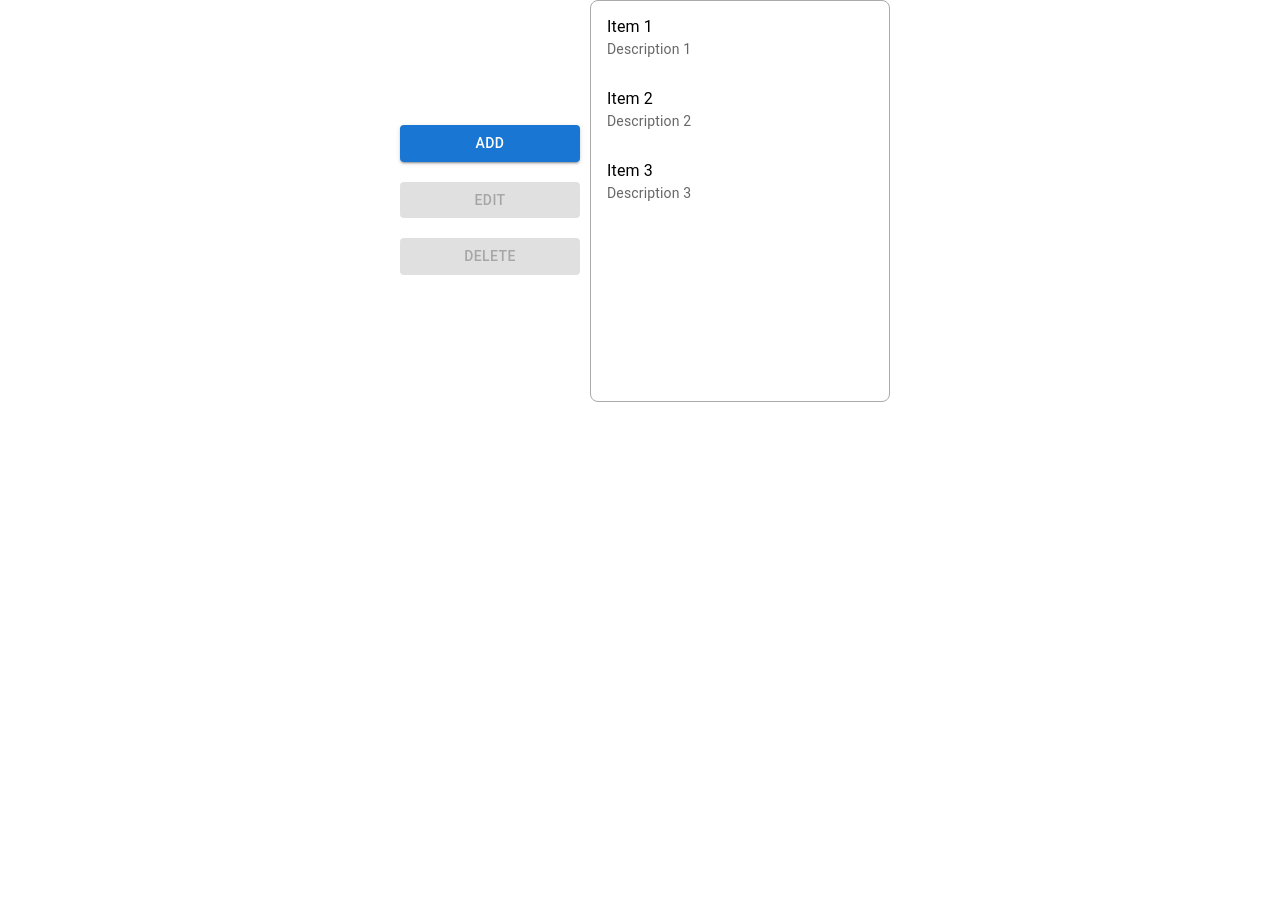
ToDoList › should open add dialog and add new item
This screenshot has width=1280, height=900.
Click the button "Add": point(490, 144) 400,125 -> 580,162
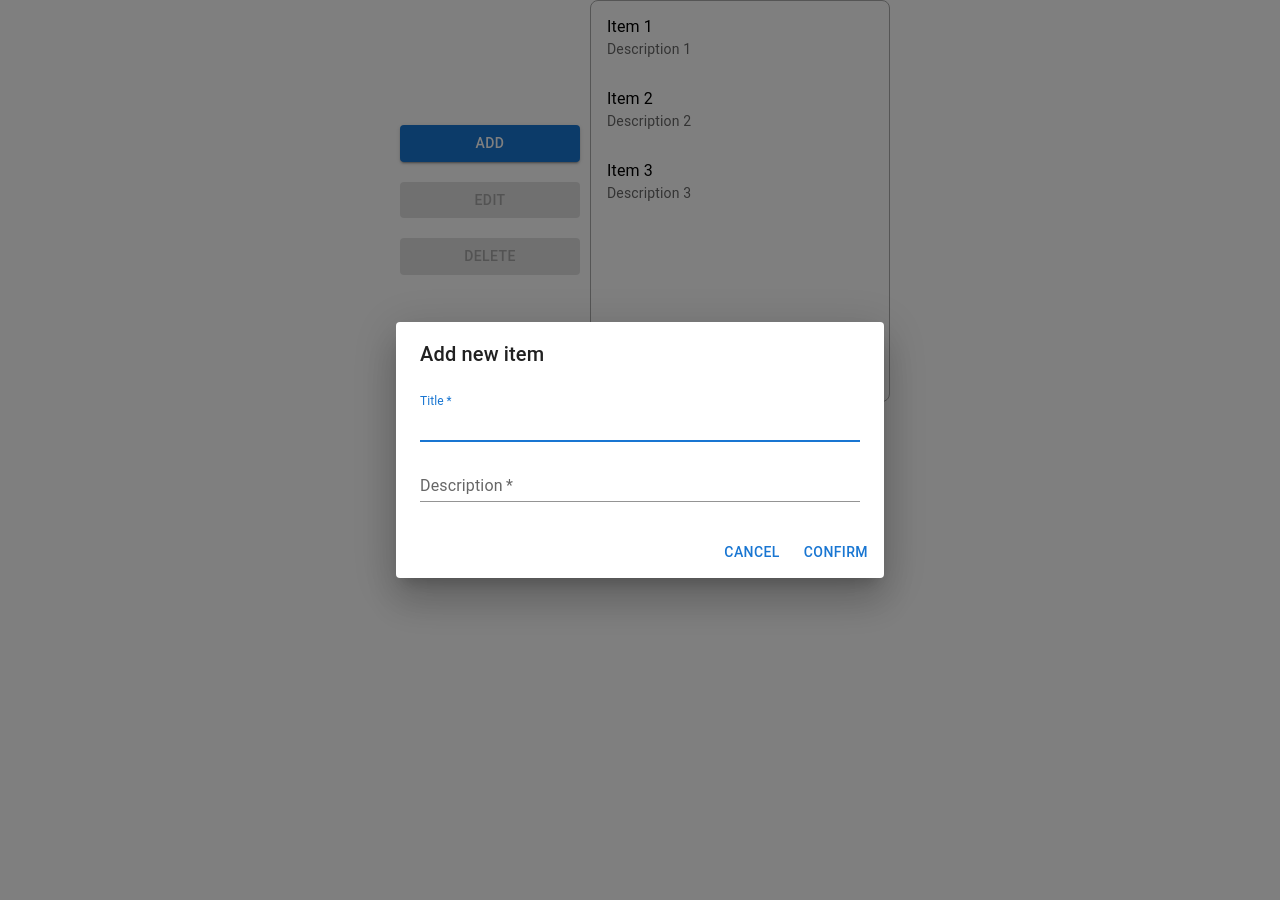
Expected: the dialog is shown, 396,322 -> 884,578
In the field labelled "Title *": point(640, 426) 420,410 -> 860,442, type "New Item"
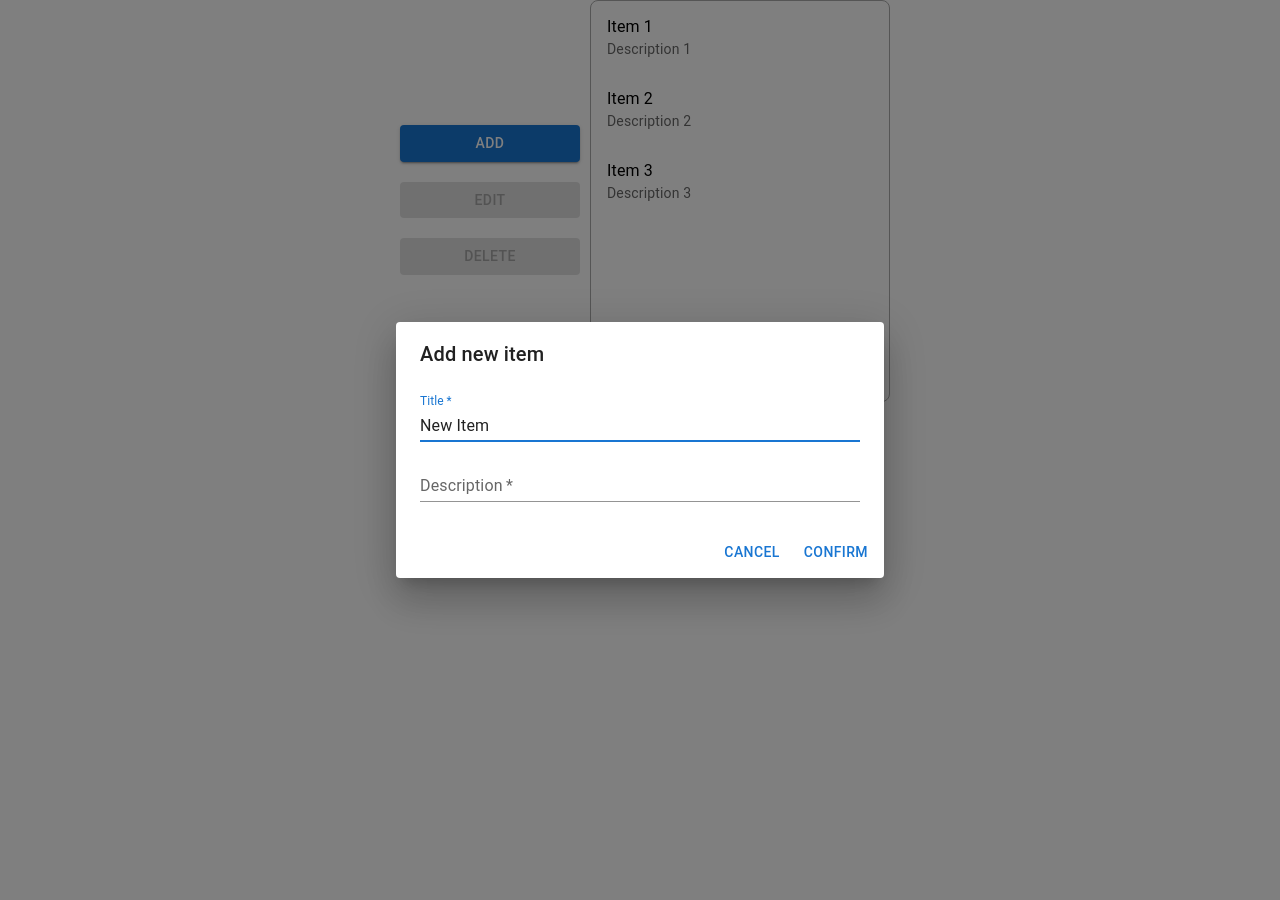
In the field labelled "Description *": point(640, 486) 420,470 -> 860,502, type "New Description"
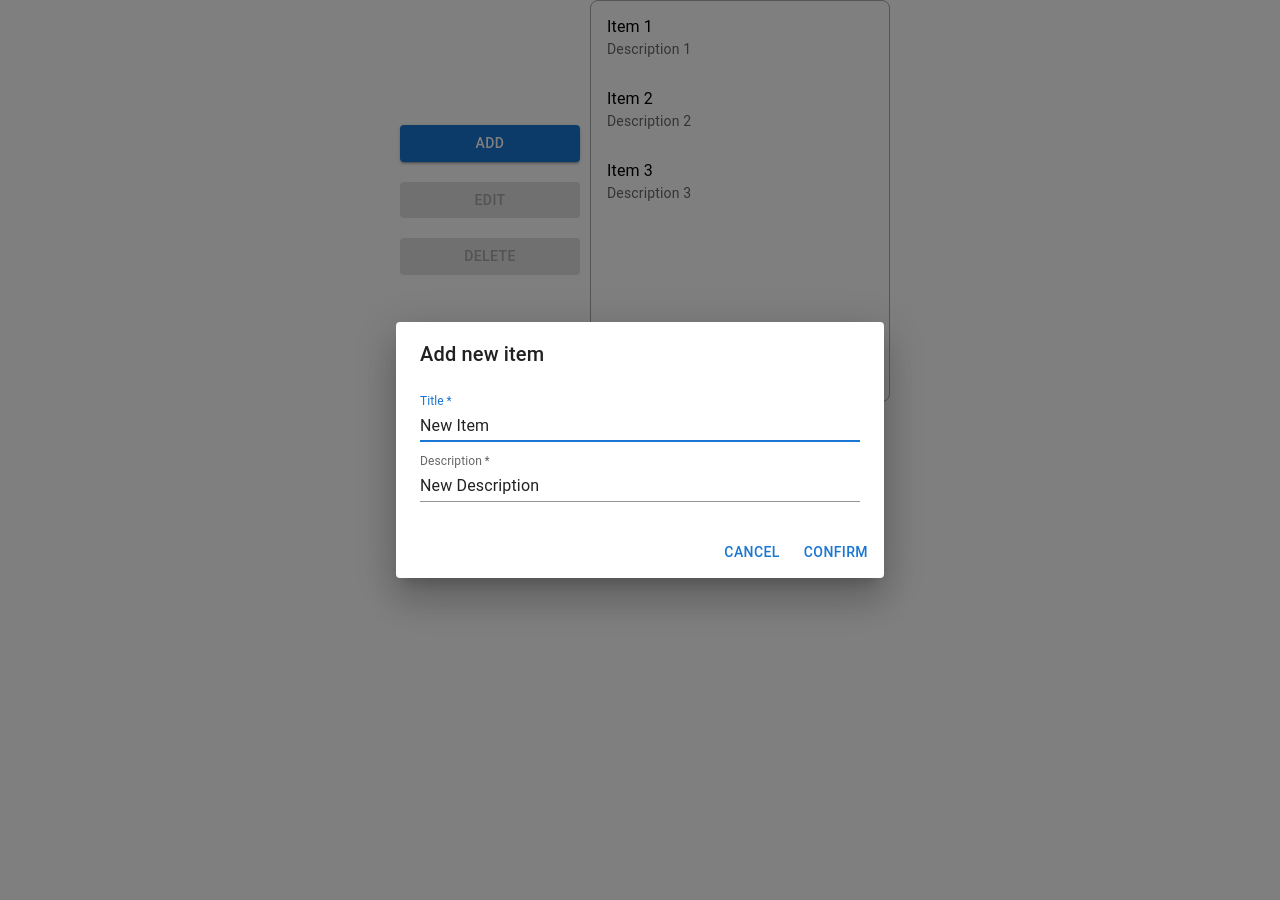
Click the button "Confirm": point(836, 552) 796,534 -> 876,570
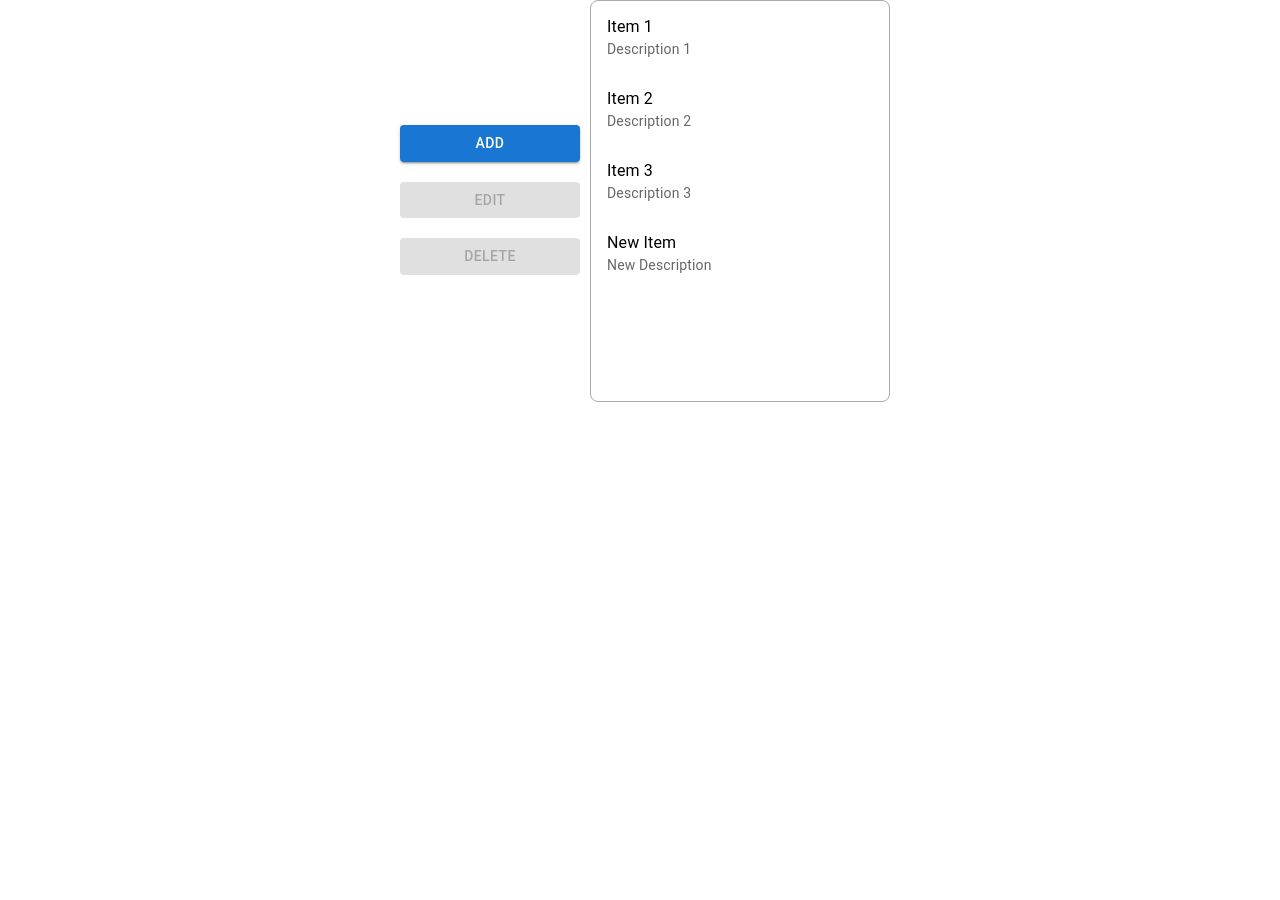
Expected: the text "New Item" is shown, 607,233 -> 676,252
Expected: the text "New Description" is shown, 607,257 -> 712,273
